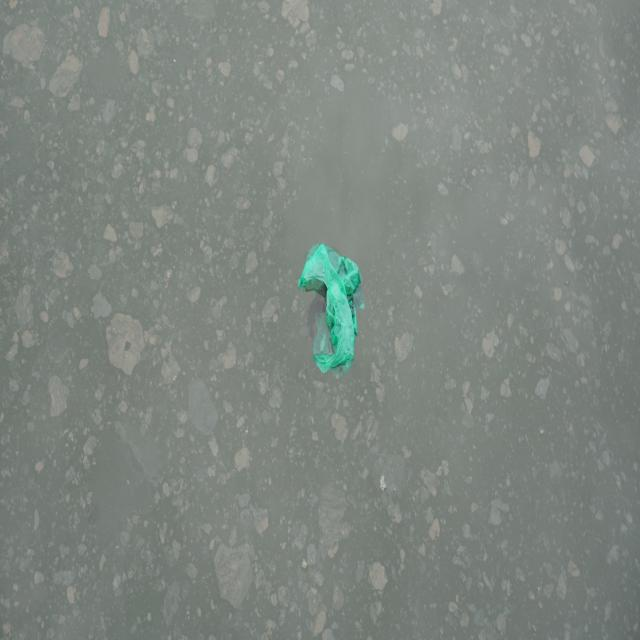Kantong Plastik: (301, 238, 367, 381)
